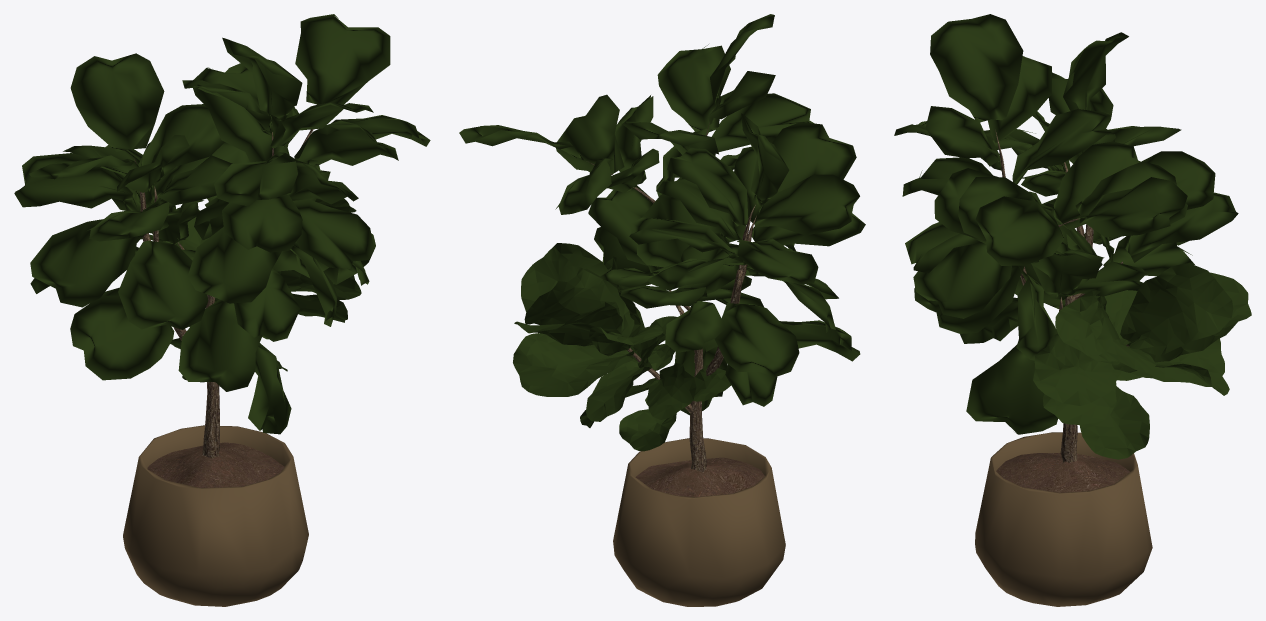
Rendered from plant-ficus-desk.glb.
The picture shows the model from 3 angles, left to right: view 1: azimuth 30°, elevation 25°; view 2: azimuth 150°, elevation 25°; view 3: azimuth 270°, elevation 25°; orthographic projection. The views are drawn at different scales.
Parts seen in each view (by area): view 1: Collection indoor plant 251 ficus lyrata monstera palm _4642 (×5); view 2: Collection indoor plant 251 ficus lyrata monstera palm _4642 (×5); view 3: Collection indoor plant 251 ficus lyrata monstera palm _4642 (×5).
Boxes of the visible parts, <box> form: Collection indoor plant 251 ficus lyrata monstera palm _4642 (×5): <box>14,14,430,606</box>; Collection indoor plant 251 ficus lyrata monstera palm _4642 (×5): <box>459,14,865,606</box>; Collection indoor plant 251 ficus lyrata monstera palm _4642 (×5): <box>894,14,1251,606</box>.
Size of the model in its own units: 0.2369 by 0.339 by 0.1964.
Materials: 4 (2 with a texture image).
